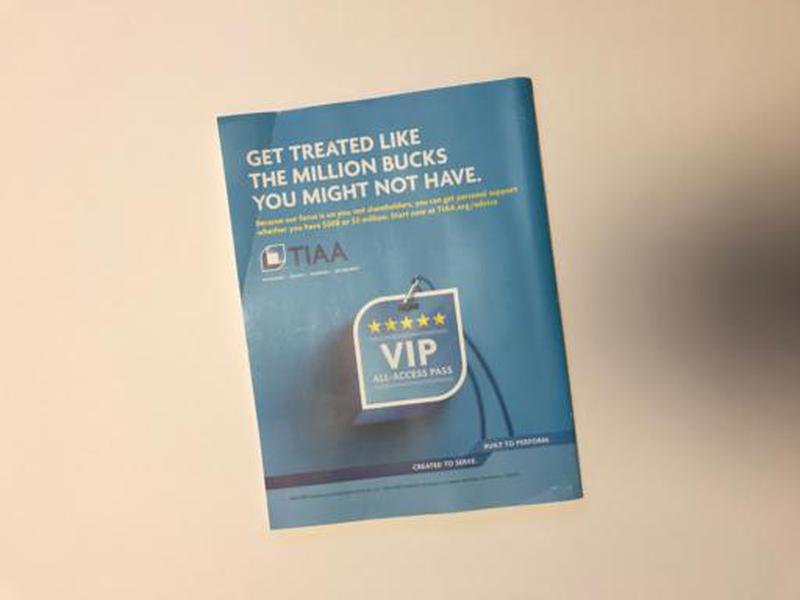paper: (208, 72, 587, 534)
